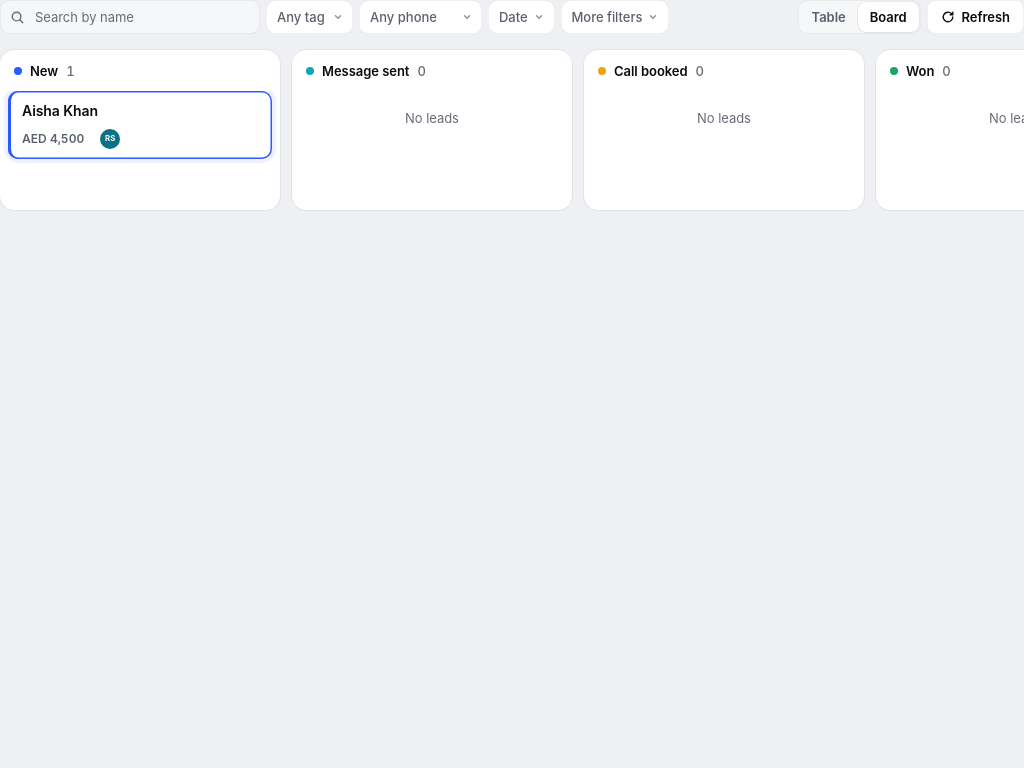
it: BoardScreen › opens the drawer on a click, never on the Space that picks a card up
This screenshot has width=1024, height=768.
Type keys " "
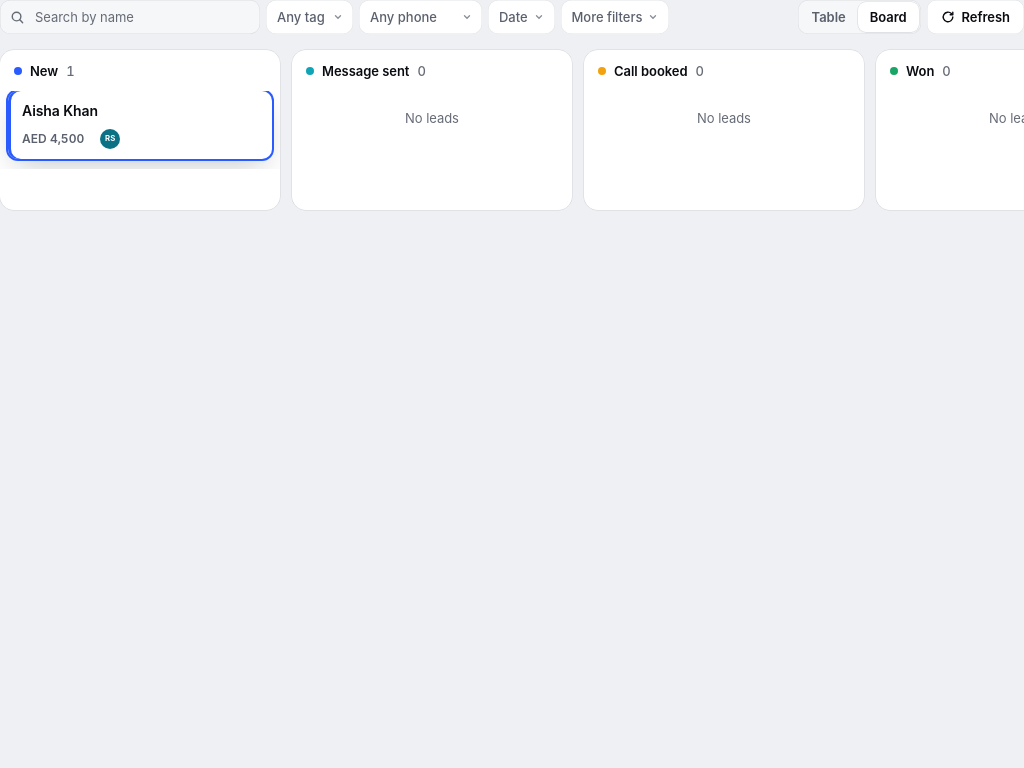
Press Escape
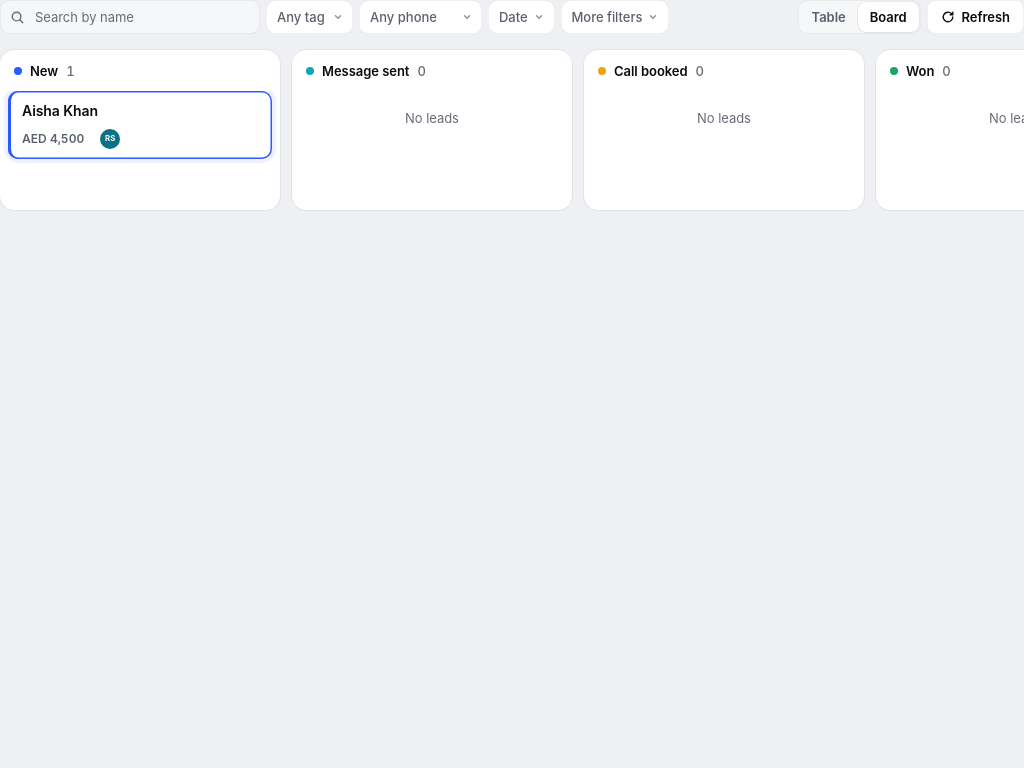
Click the button "Aisha Khan AED 4,500 RS" at (60, 110), box top-left (8, 91), bottom-right (272, 159)
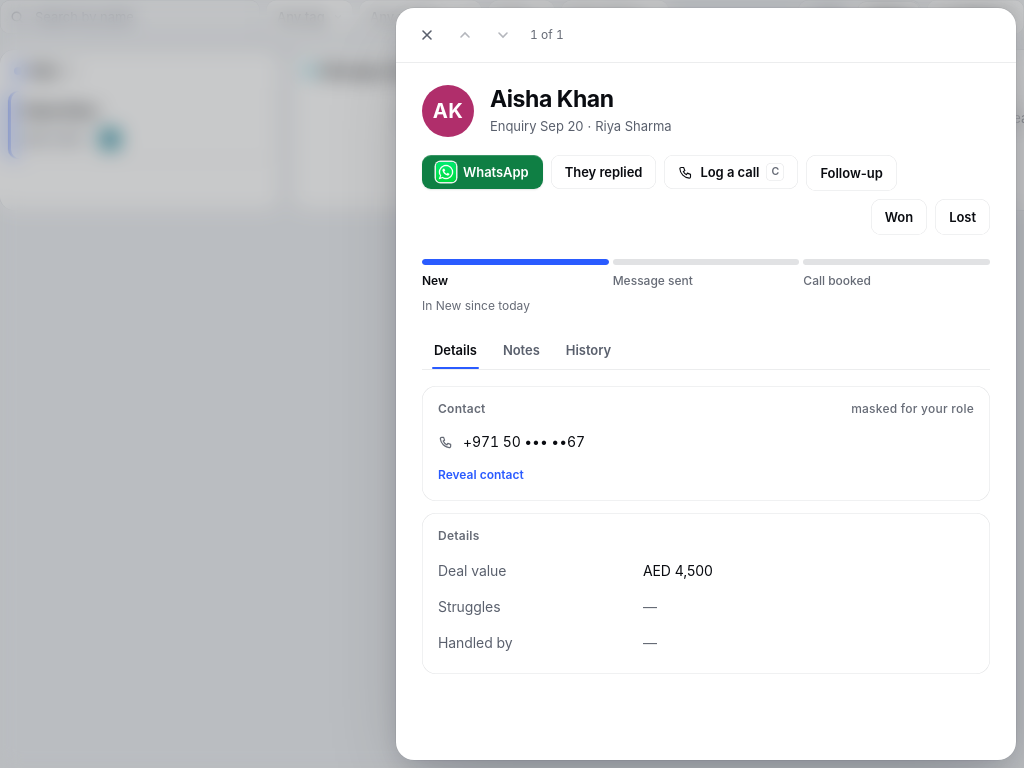
Check: the dialog "Aisha Khan" is shown, box top-left (396, 8), bottom-right (1016, 760)
